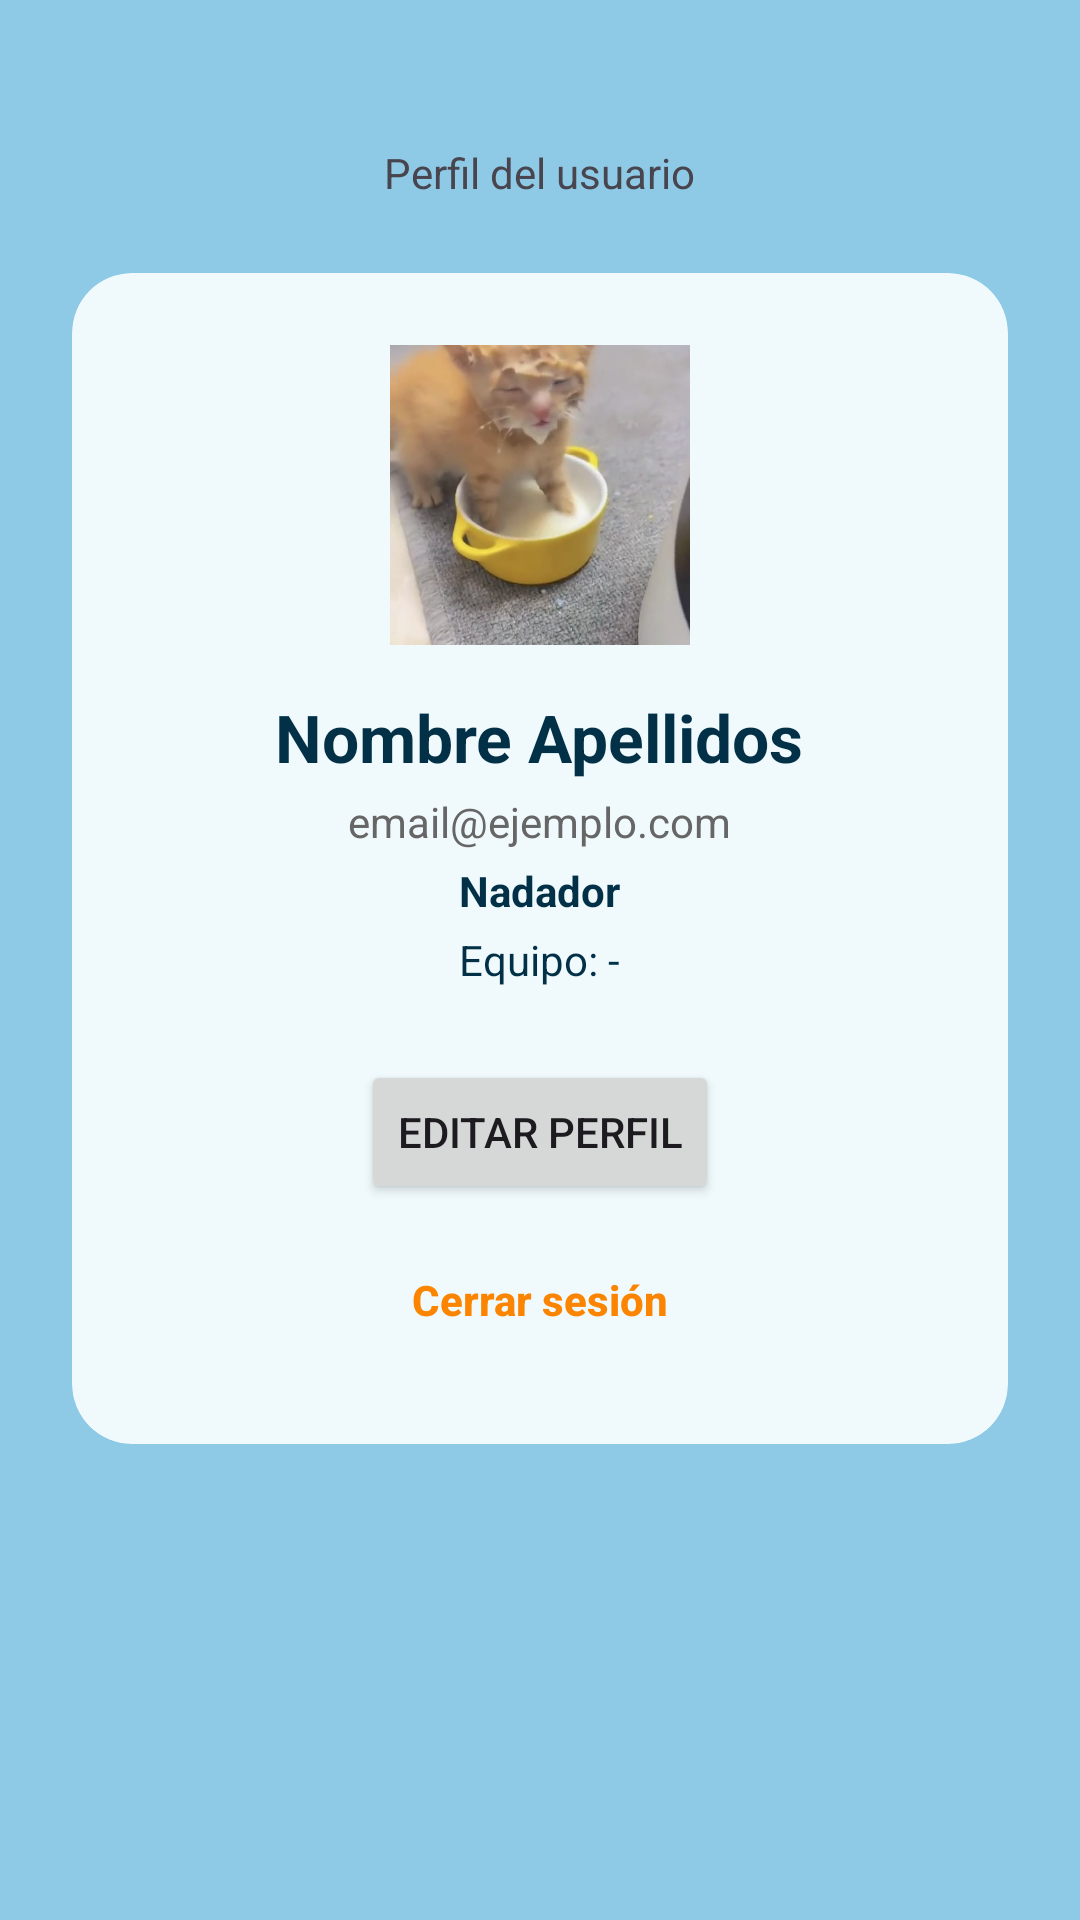

Screen size 1080px×1920px. Icon name, then its center in pixels as point (x, y):
Foto de perfil: point (540, 495)
